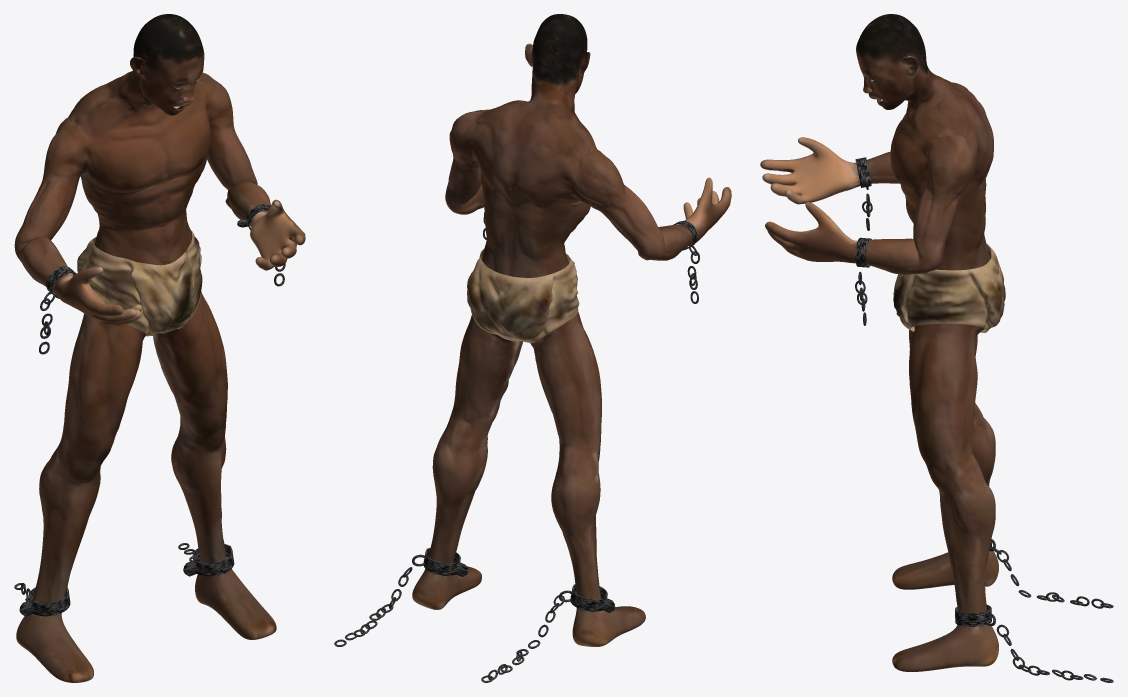
The model's file is slave.glb.
3 views of the same model, side by side, from view 1: azimuth 30°, elevation 25°; view 2: azimuth 150°, elevation 25°; view 3: azimuth 270°, elevation 25° (orthographic). The views are drawn at different scales.
Parts seen in each view (by area): view 1: Object_8, Object_10, Object_11, Object_2, Object_9, Object_4, Object_16, Object_3, Object_12, Object_6; view 2: Object_9, Object_10, Object_8, Object_2, Object_11, Object_4, Object_16, Object_12; view 3: Object_11, Object_10, Object_9, Object_2, Object_8, Object_4, Object_12, Object_5, Object_7, Object_16.
Boxes of the visible parts, left/top/right/bottom form: Object_8: left=16, top=73, right=239, bottom=681; Object_10: left=14, top=79, right=276, bottom=682; Object_11: left=155, top=72, right=305, bottom=639; Object_2: left=77, top=230, right=202, bottom=336; Object_9: left=14, top=82, right=142, bottom=456; Object_4: left=119, top=15, right=204, bottom=107; Object_16: left=19, top=204, right=270, bottom=616; Object_3: left=137, top=44, right=186, bottom=115; Object_12: left=130, top=14, right=305, bottom=270; Object_6: left=130, top=40, right=194, bottom=111; Object_9: left=414, top=102, right=731, bottom=645; Object_10: left=412, top=99, right=710, bottom=646; Object_8: left=412, top=99, right=645, bottom=646; Object_2: left=467, top=249, right=579, bottom=343; Object_11: left=416, top=100, right=529, bottom=609; Object_4: left=530, top=14, right=585, bottom=111; Object_16: left=423, top=221, right=698, bottom=612; Object_12: left=485, top=20, right=557, bottom=249; Object_11: left=765, top=91, right=998, bottom=670; Object_10: left=760, top=81, right=998, bottom=671; Object_9: left=762, top=80, right=997, bottom=660; Object_2: left=893, top=243, right=1005, bottom=332; Object_8: left=890, top=59, right=996, bottom=664; Object_4: left=856, top=14, right=942, bottom=107; Object_12: left=765, top=17, right=974, bottom=263; Object_5: left=863, top=17, right=939, bottom=109; Object_7: left=862, top=23, right=927, bottom=105; Object_16: left=855, top=157, right=995, bottom=627.
Bounding box in the file's own units: 19.71 × 44.13 × 23.25.
6 materials, 6 textured.
